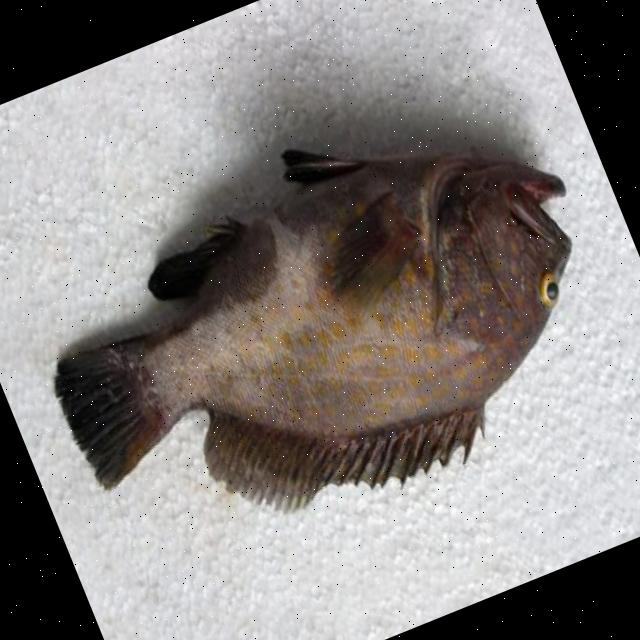ikan: (2, 57, 640, 601)
